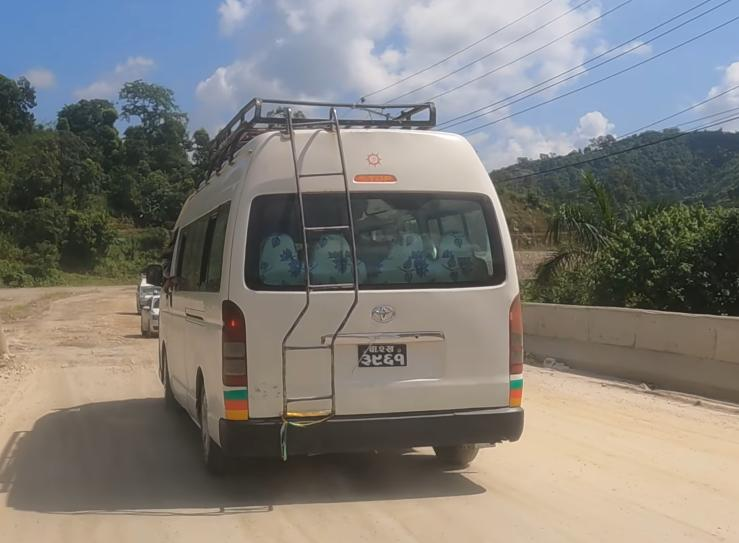micro_bus: (152, 106, 540, 482)
